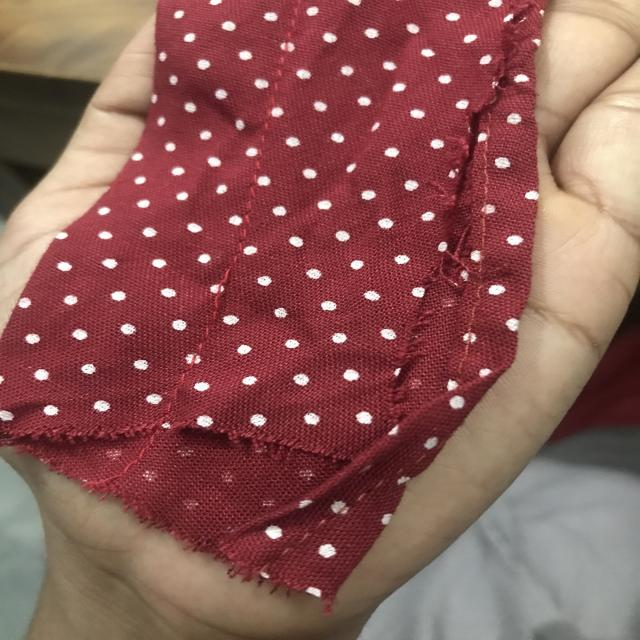skip: (184, 265, 243, 317)
